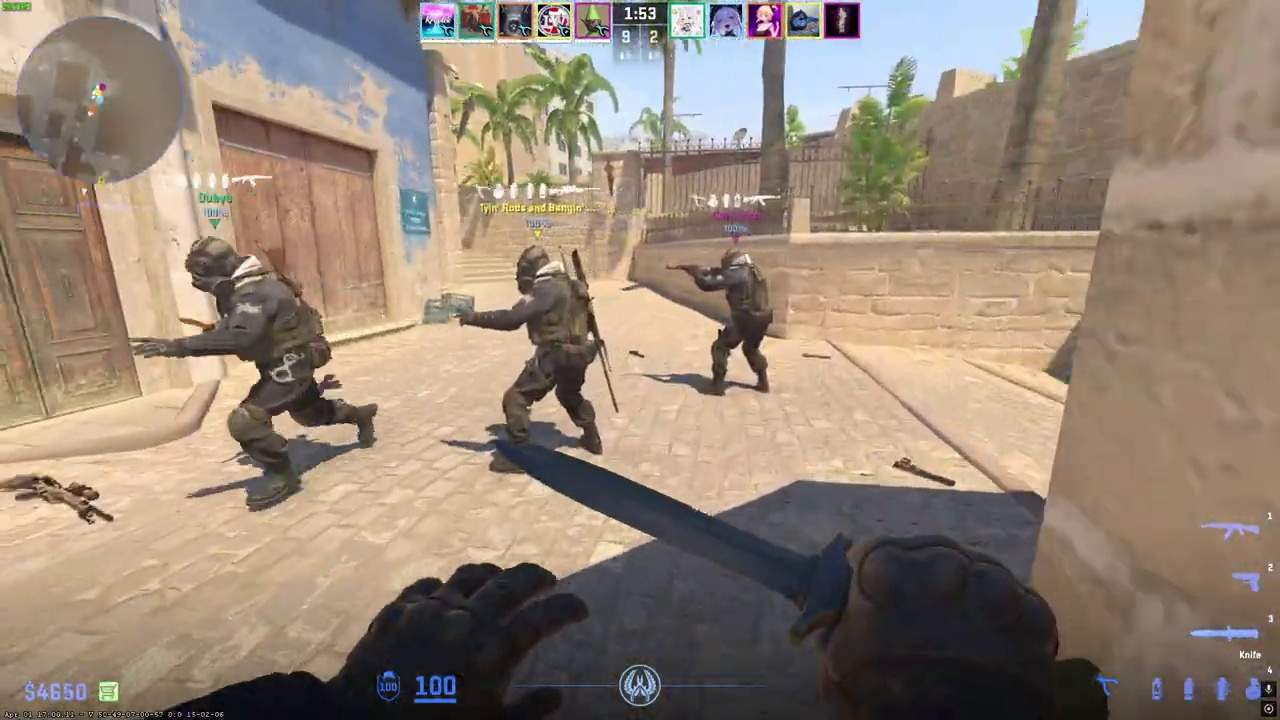CT: (183, 236, 358, 510), (489, 245, 603, 473), (698, 248, 773, 395)
